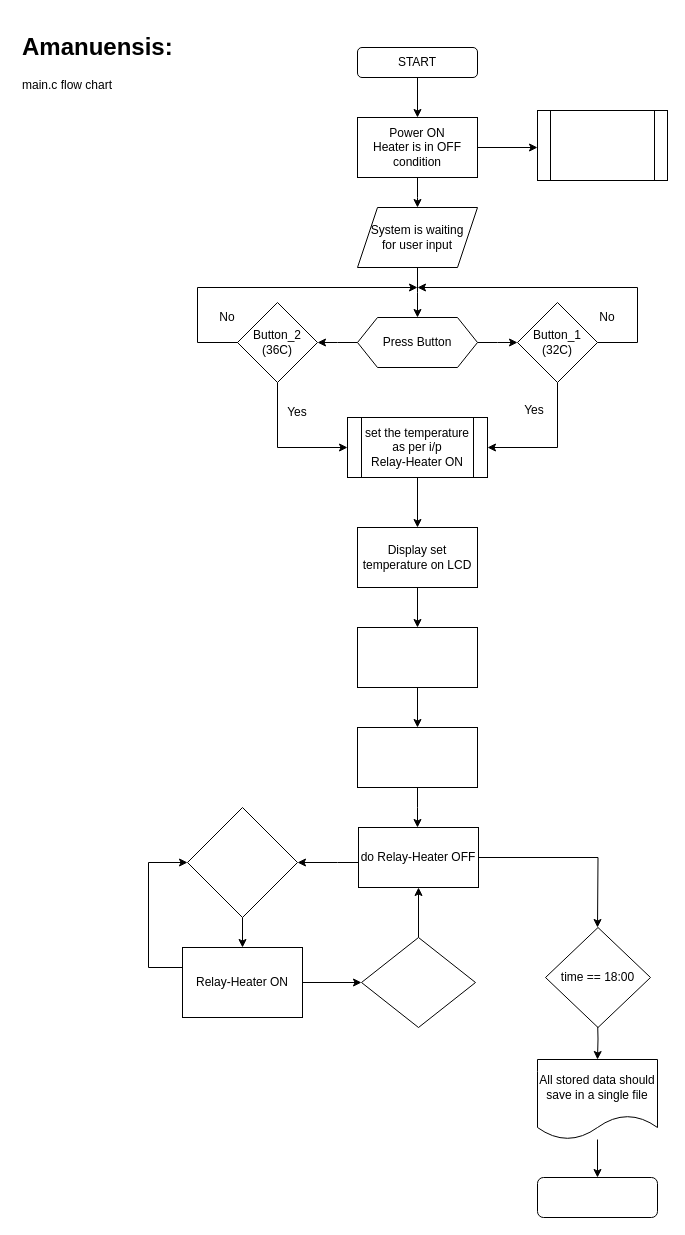
The diagram is 685 pixels wide and 1235 high, and some of its shapes have lost their labels. The shapes that lost their labels are listed below. From the top down, each one's centre as x and y in pixels, then its label:
the point at 602,145: Display Date & Time Current room temperature on LCD
the point at 417,657: If temperature == 32C/36C
the point at 417,757: Store temperature + time stamp with date in flash chip
the point at 242,862: if temp<32C/36C
the point at 418,982: if temp==32C/36C
the point at 597,1197: Stop
